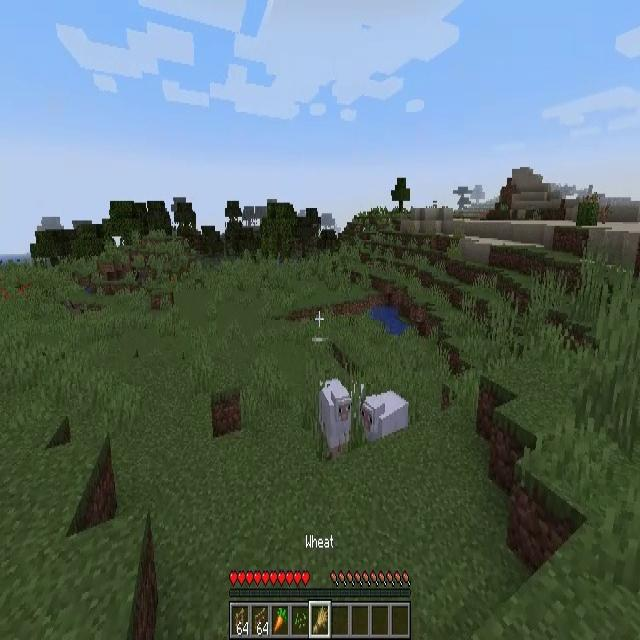sheep: (361, 391, 408, 445), (319, 379, 351, 452)
